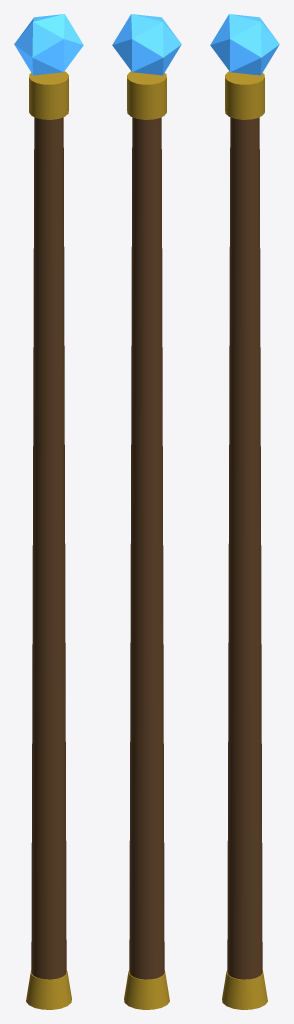
Rendered from staff.glb.
3 views of the same model, side by side, from view 1: azimuth 30°, elevation 25°; view 2: azimuth 150°, elevation 25°; view 3: azimuth 330°, elevation 25° (orthographic).
Visible parts, largest first — view 1: shaft, crystal, collar, ferrule; view 2: shaft, crystal, collar, ferrule; view 3: shaft, crystal, collar, ferrule.
Boxes of the visible parts, x1,y1,x2,y2 form: shaft: [31, 117, 66, 979]; crystal: [14, 14, 83, 75]; collar: [29, 71, 68, 119]; ferrule: [26, 970, 71, 1009]; shaft: [129, 117, 164, 979]; crystal: [112, 14, 181, 75]; collar: [127, 71, 166, 119]; ferrule: [124, 970, 169, 1009]; shaft: [227, 117, 262, 979]; crystal: [210, 14, 279, 75]; collar: [225, 71, 264, 119]; ferrule: [222, 970, 267, 1009].
Bounding box in the file's own units: 0.0766 × 1.4 × 0.0766.
